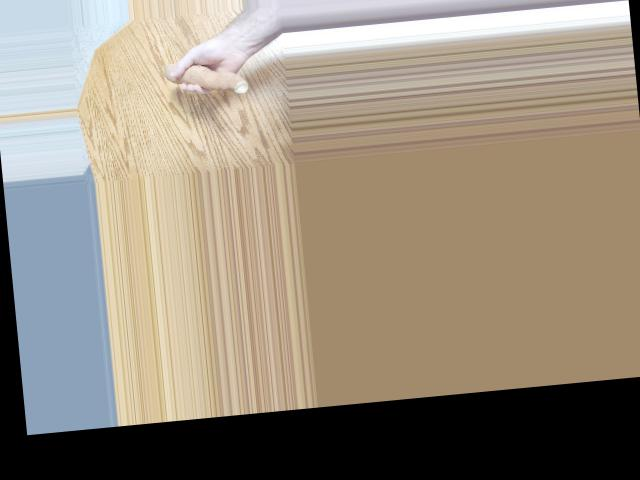sweet_potato: (160, 57, 253, 100)
